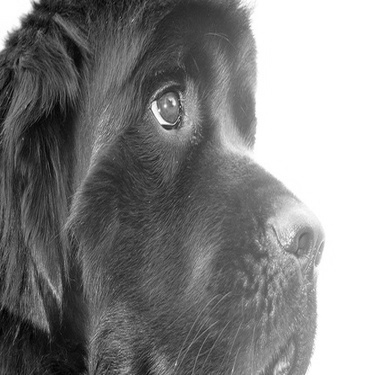dog: (1, 1, 334, 371)
